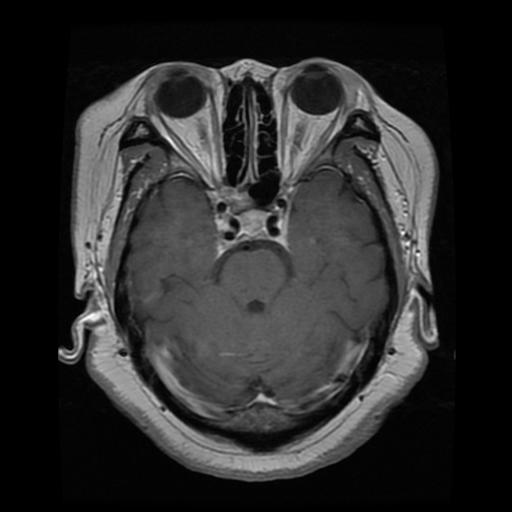Pituirity_tumour: (240, 209, 266, 235)
